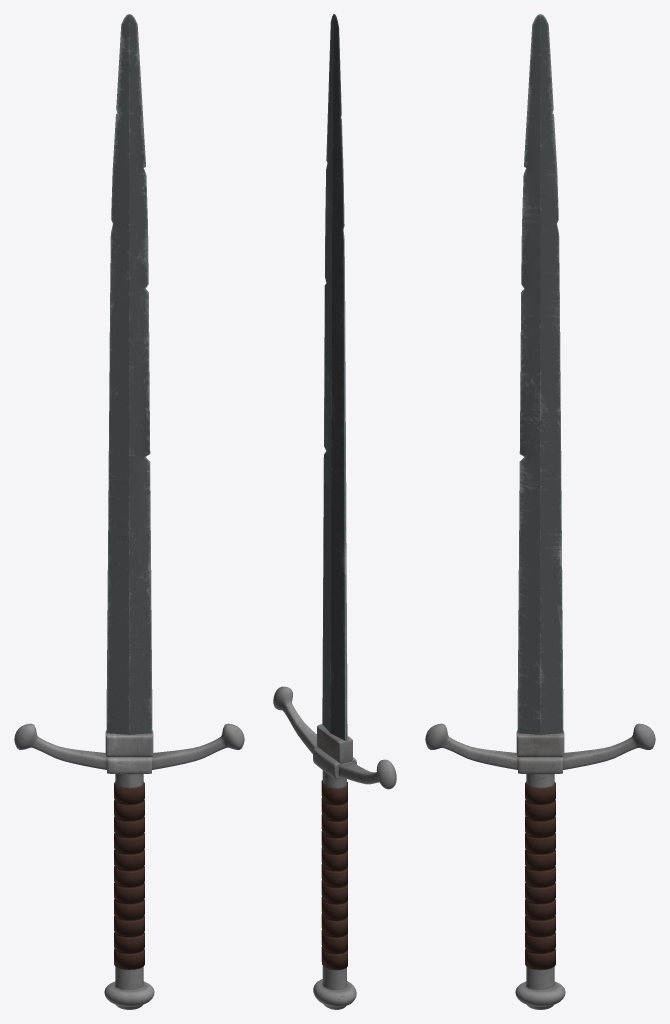
The model's file is two-handed_sword.fbx.
3 renders of one model, left to right at view 1: azimuth 90°, elevation 25°; view 2: azimuth 210°, elevation 25°; view 3: azimuth 270°, elevation 25°, orthographic.
Parts seen in each view (by area): view 1: sword; view 2: sword; view 3: sword.
Part boxes in pixels (<box>): sword: <box>14,14,244,1009</box>; sword: <box>273,14,396,1009</box>; sword: <box>425,14,655,1009</box>.
Bounding box in the file's own units: 225 × 6004 × 1261.
